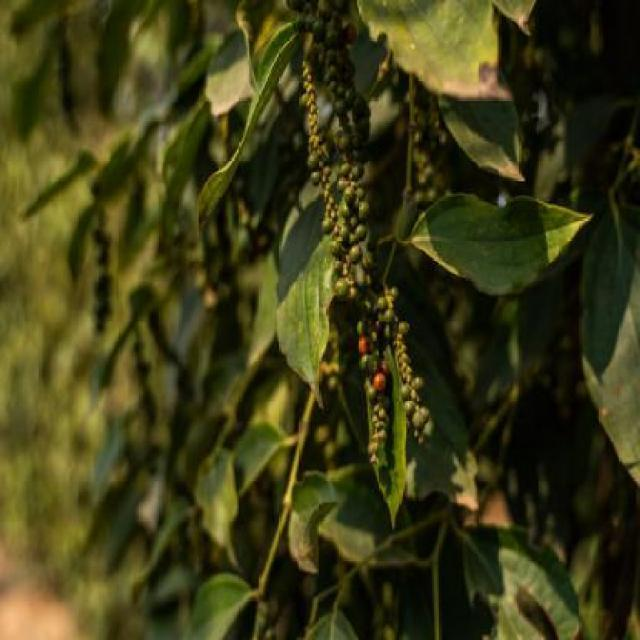UNRIPE: (302, 19, 375, 301)
